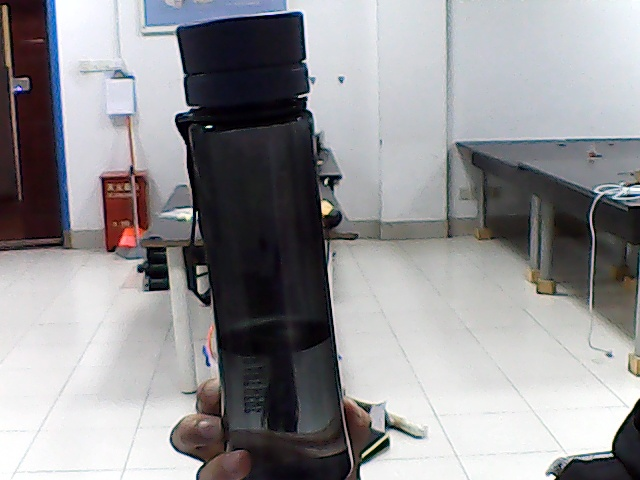cup: (209, 40, 306, 360)
